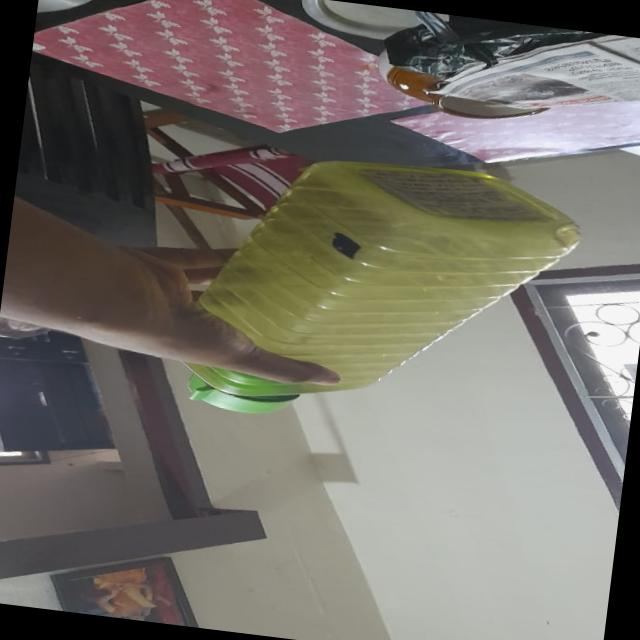Plastic - Recyclable: (169, 136, 587, 451)
